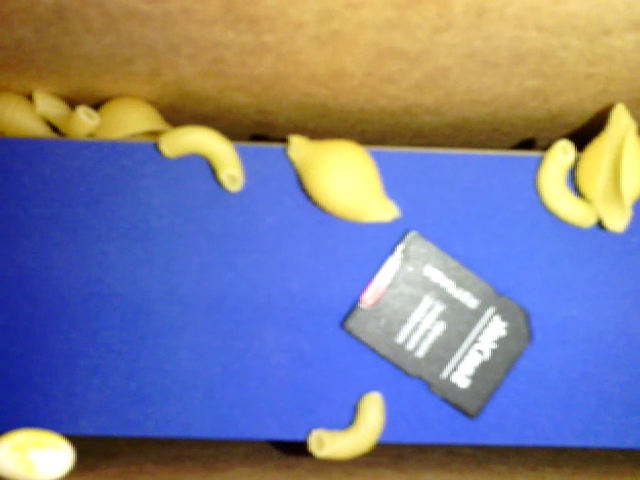elbow: (532, 138, 601, 233), (157, 124, 249, 191), (305, 381, 382, 458), (30, 84, 100, 134)
shell: (285, 132, 398, 222), (575, 98, 639, 232), (85, 96, 174, 146), (1, 92, 63, 142)
